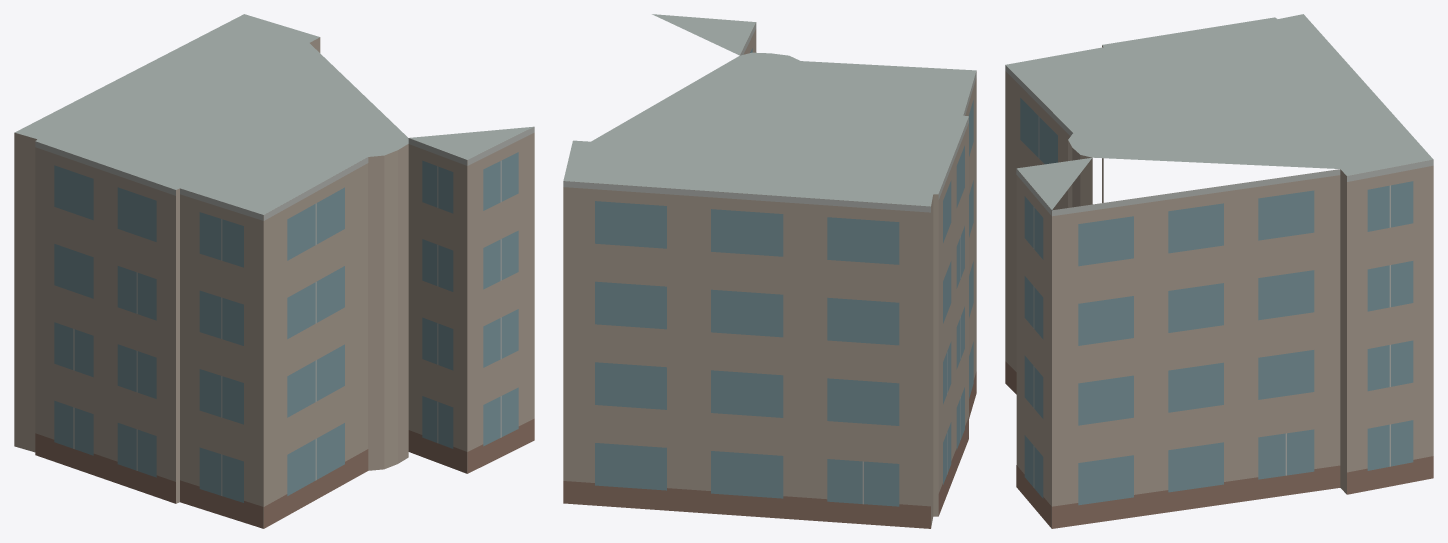
Rendered from survey-upis-32799315.glb.
3 renders of one model, left to right at view 1: azimuth 30°, elevation 25°; view 2: azimuth 150°, elevation 25°; view 3: azimuth 270°, elevation 25°, orthographic. The views are drawn at different scales.
Parts seen in each view (by area): view 1: survey-upis-32799315.tmp; view 2: survey-upis-32799315.tmp; view 3: survey-upis-32799315.tmp.
Part boxes in pixels (box(x1,y1,x2,y2)): survey-upis-32799315.tmp: box(14, 14, 534, 528); survey-upis-32799315.tmp: box(563, 14, 976, 528); survey-upis-32799315.tmp: box(1005, 14, 1433, 528).
Size of the model in its own units: 16.98 by 12.85 by 15.66.
